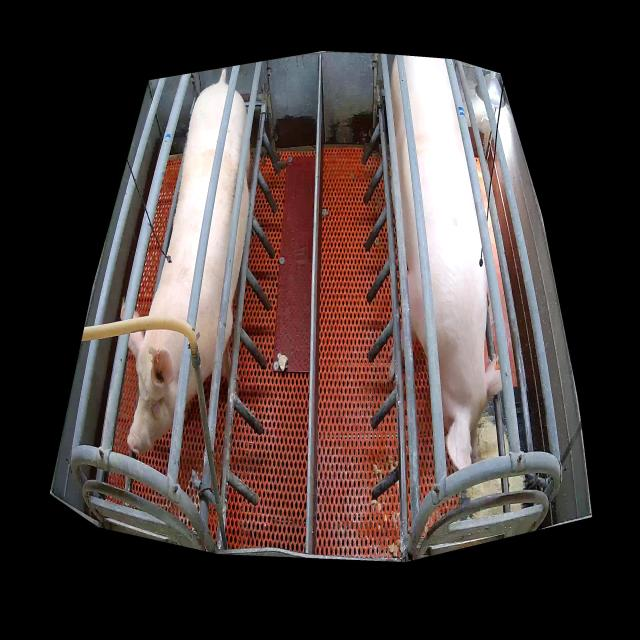pig: (390, 57, 502, 470), (127, 82, 250, 455)
